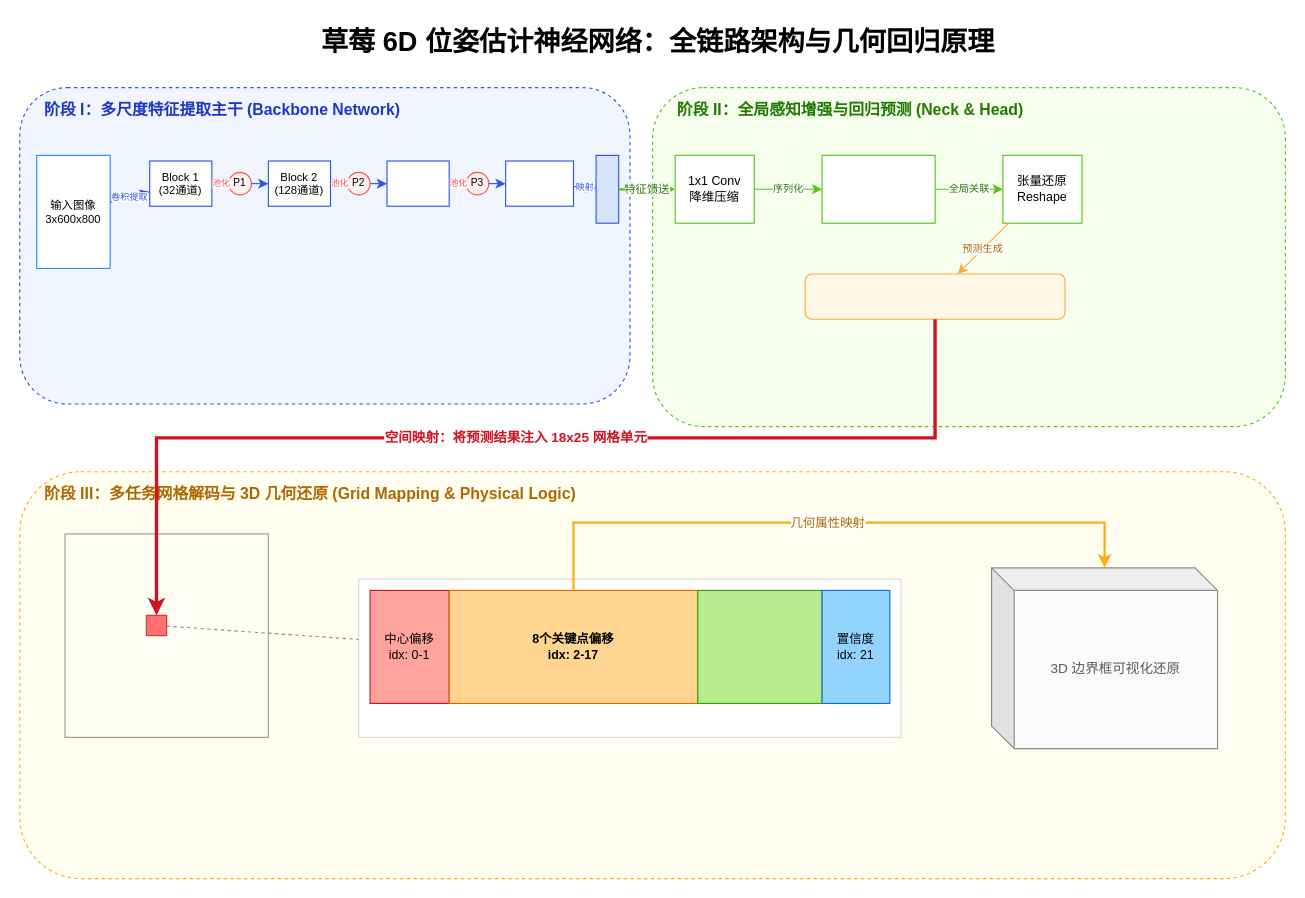
Some shapes in this 1305 by 898 pixel diagram are drawn without their labels. The box of each missing label's shape, as (x1, y1, x2, y2) in pixels:
1x1 卷积回归预测头 (22通道): (804, 273, 1065, 319)
3D尺寸 idx: 18-20: (697, 589, 822, 703)
Block 3 (512通道): (386, 160, 449, 206)
Block 4 (1024通道): (505, 160, 573, 206)
Transformer 注意力增强: (821, 154, 935, 223)
主干输出 18x25: (595, 154, 619, 223)
